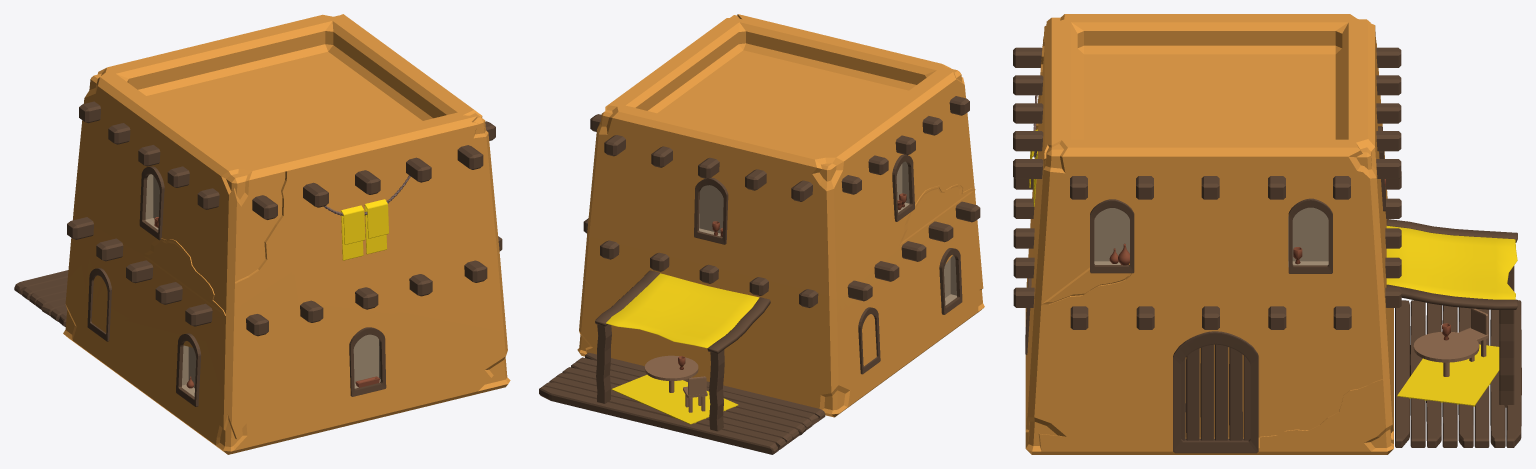
The model's file is HOUSE06.fbx.
3 renders of one model, left to right at view 1: azimuth 30°, elevation 25°; view 2: azimuth 150°, elevation 25°; view 3: azimuth 270°, elevation 25°, orthographic. The views are drawn at different scales.
Parts seen in each view (by area): view 1: ev3; view 2: ev3; view 3: ev3.
Part boxes in pixels (x1,y1,x2,y2): ev3: (14, 14, 510, 454); ev3: (539, 14, 984, 454); ev3: (1013, 14, 1521, 454).
Bounding box in the file's own units: 1.21 × 0.9991 × 1.54.
